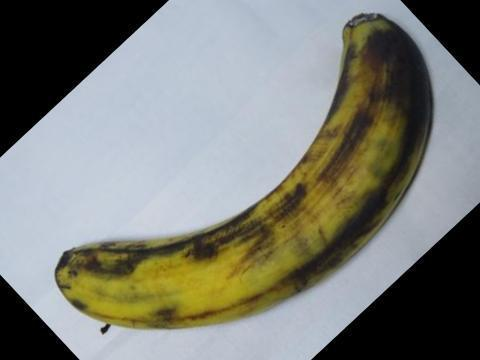overripe: (45, 3, 432, 349)
